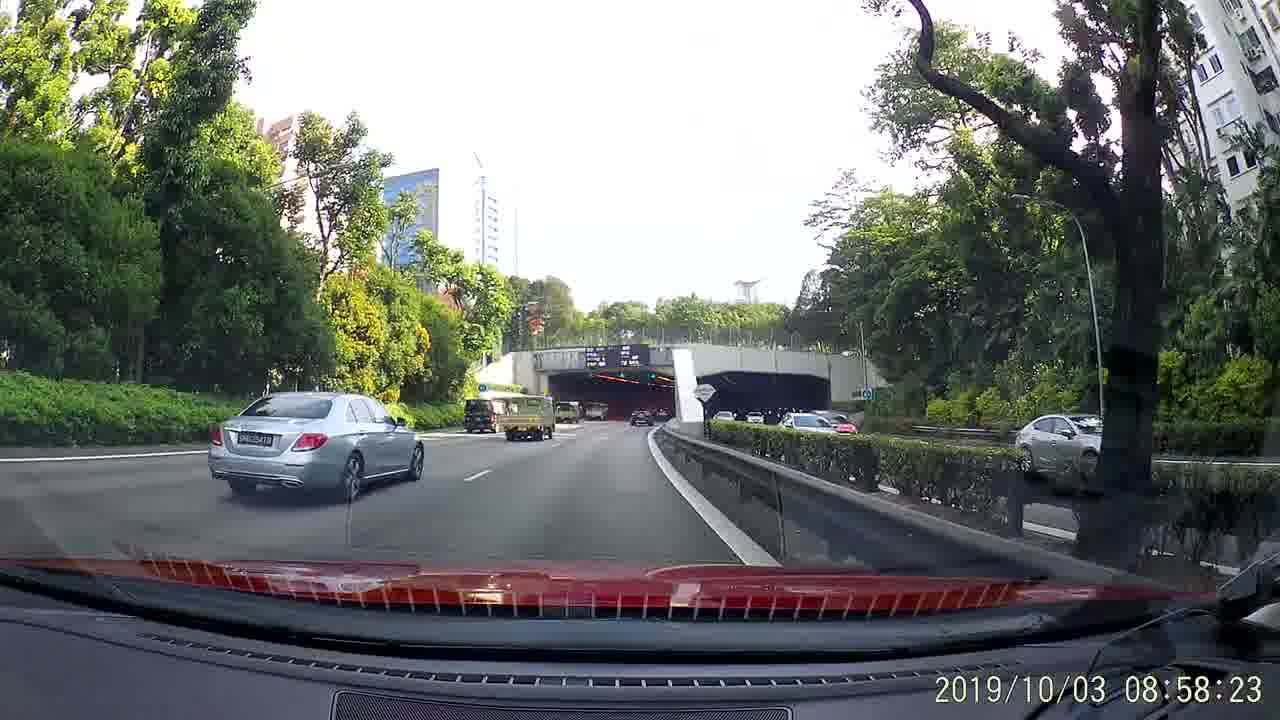car: (208, 384, 425, 501), (1014, 410, 1110, 474), (813, 409, 860, 436), (779, 412, 835, 432), (631, 409, 653, 425), (745, 411, 767, 425)
